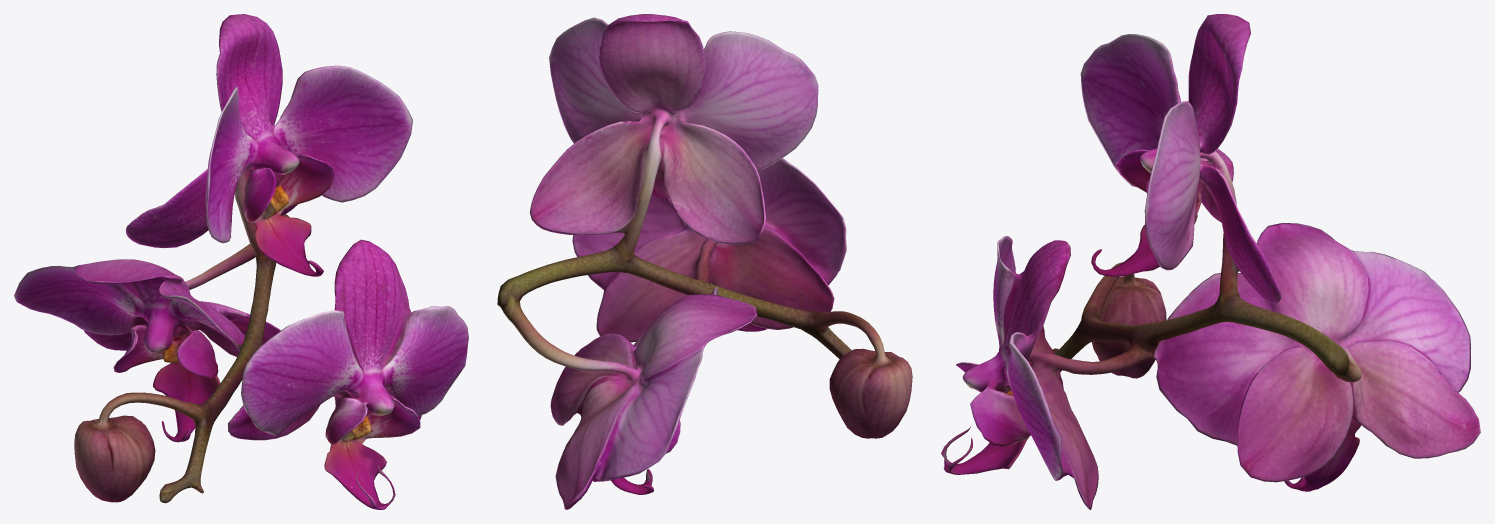
File: orchid-rigsters-web.glb
The picture shows the model from 3 angles, left to right: view 1: azimuth 30°, elevation 25°; view 2: azimuth 150°, elevation 25°; view 3: azimuth 270°, elevation 25°; orthographic projection. The views are drawn at different scales.
Parts seen in each view (by area): view 1: Object_2; view 2: Object_2; view 3: Object_2.
Boxes of the visible parts, x1,y1,x2,y2 form: Object_2: [14, 14, 468, 509]; Object_2: [497, 14, 912, 509]; Object_2: [941, 14, 1480, 509].
Size of the model in its own units: 0.312 by 0.3657 by 0.3698.
Materials: 1 (1 with a texture image).
